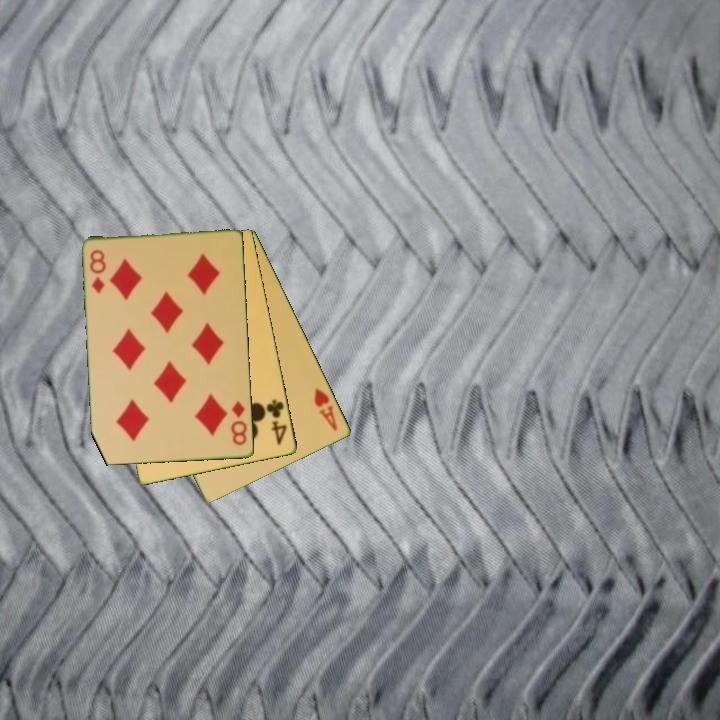4c: (263, 396, 290, 448)
8d: (227, 397, 250, 448), (86, 246, 109, 297)
Ah: (311, 384, 340, 434)
